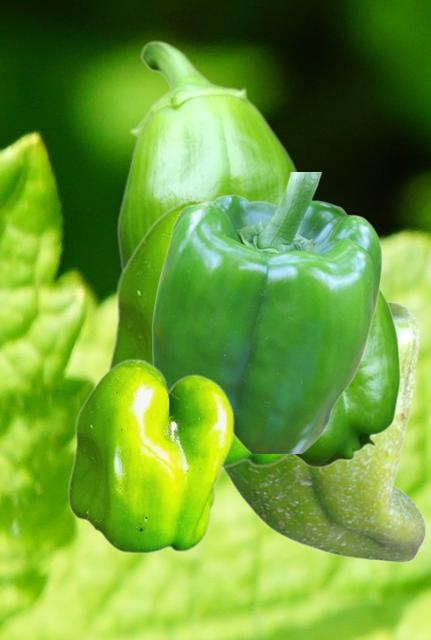bell_pepper: (151, 172, 381, 452), (223, 299, 425, 561), (105, 198, 291, 469), (116, 40, 298, 268), (67, 358, 233, 553), (291, 288, 400, 467)
